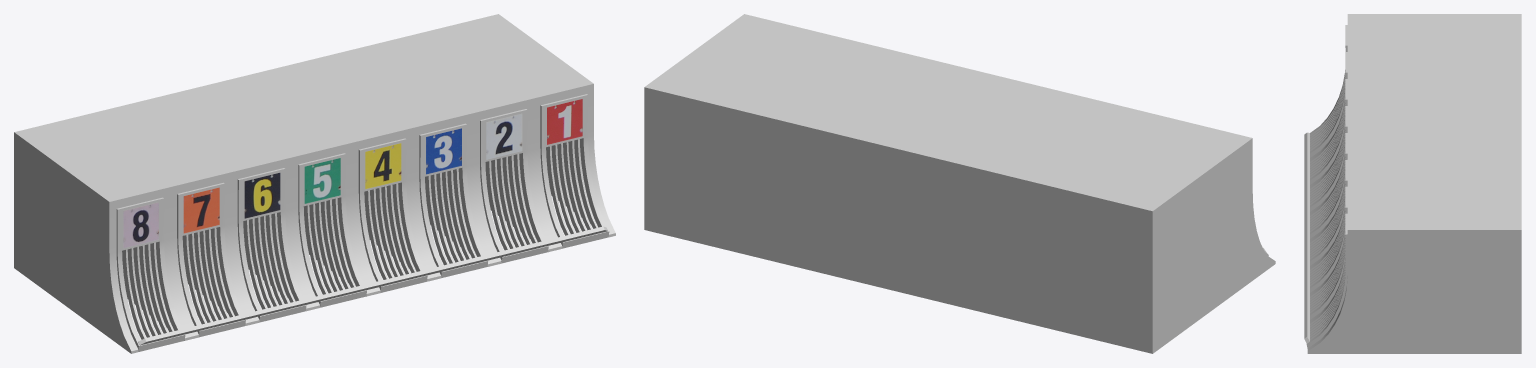
Rendered from Starting_Trap_8Box.fbx.
3 renders of one model, left to right at view 1: azimuth 30°, elevation 25°; view 2: azimuth 150°, elevation 25°; view 3: azimuth 270°, elevation 25°, orthographic. The views are drawn at different scales.
Visible parts, largest first — view 1: Starting_Box_Body, Doors_Mesh, Numbers, Bar; view 2: Starting_Box_Body; view 3: Starting_Box_Body, Doors_Mesh, Bar.
Boxes of the visible parts, <box> form: Starting_Box_Body: <box>14,14,615,353</box>; Doors_Mesh: <box>116,94,609,351</box>; Numbers: <box>123,99,582,248</box>; Bar: <box>138,226,607,345</box>; Starting_Box_Body: <box>644,14,1275,353</box>; Starting_Box_Body: <box>1307,14,1521,353</box>; Doors_Mesh: <box>1306,25,1347,348</box>; Bar: <box>1304,132,1309,343</box>.
Bounding box in the file's own units: 4.09 × 1.1 × 1.74.
2 materials, 1 textured.
